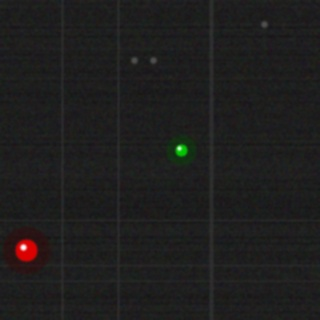green_normal: (173, 142, 189, 158)
red_fault: (13, 237, 39, 263)
